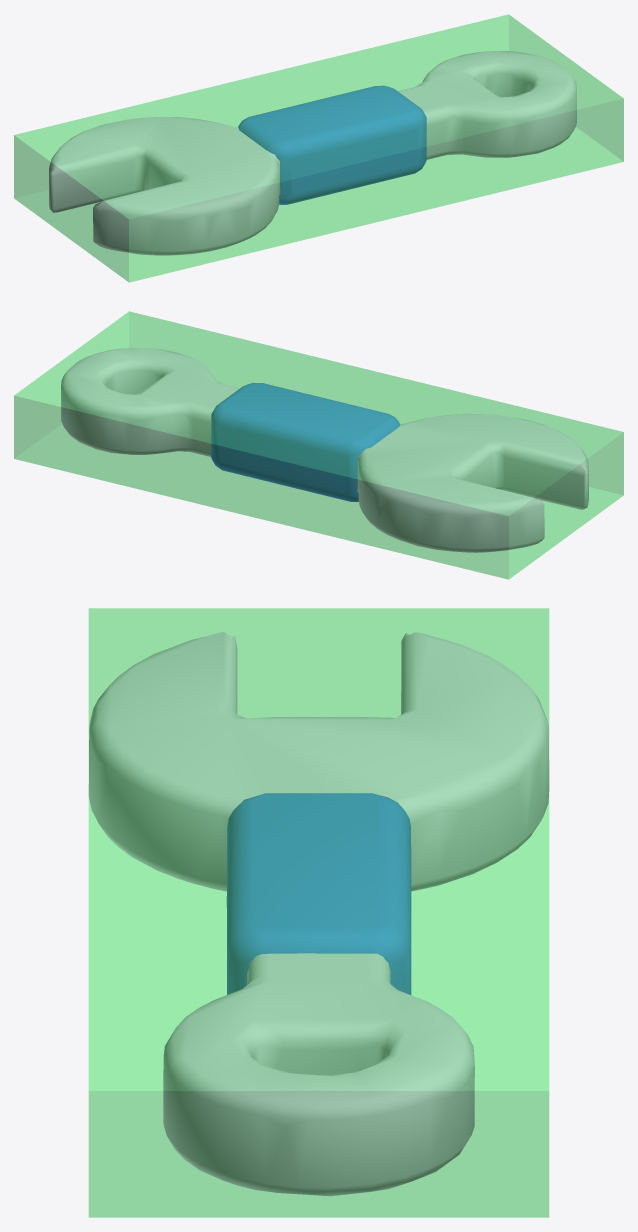
The model's file is Piece_07_Wrench.fbx.
3 renders of one model, top to bottom at view 1: azimuth 30°, elevation 25°; view 2: azimuth 150°, elevation 25°; view 3: azimuth 270°, elevation 25°, orthographic. The views are drawn at different scales.
Visible parts, largest first — view 1: COL_Piece_07, Piece_07_Wrench; view 2: COL_Piece_07, Piece_07_Wrench; view 3: COL_Piece_07, Piece_07_Wrench.
Part boxes in pixels (x1,y1,x2,y2): COL_Piece_07: (14, 14, 623, 282); Piece_07_Wrench: (49, 51, 576, 255); COL_Piece_07: (14, 311, 623, 579); Piece_07_Wrench: (61, 348, 588, 552); COL_Piece_07: (88, 608, 549, 1217); Piece_07_Wrench: (88, 632, 549, 1196).
Size of the model in its own units: 0.0714 by 0.00873 by 0.0288.
